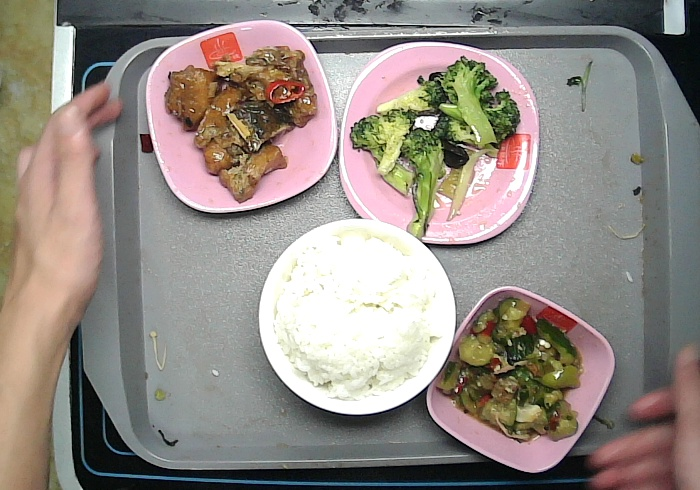SHKJ-Fan_Wan: (256, 219, 457, 417)
SHKJ-Fen_Se_Cai_Die: (145, 20, 339, 212)
SHKJ-Fen_Se_Si_Fang_Cai_Die: (340, 40, 538, 244)
SHKJ-Fen_Se_Xiao_Fang_Die: (427, 284, 614, 475)
